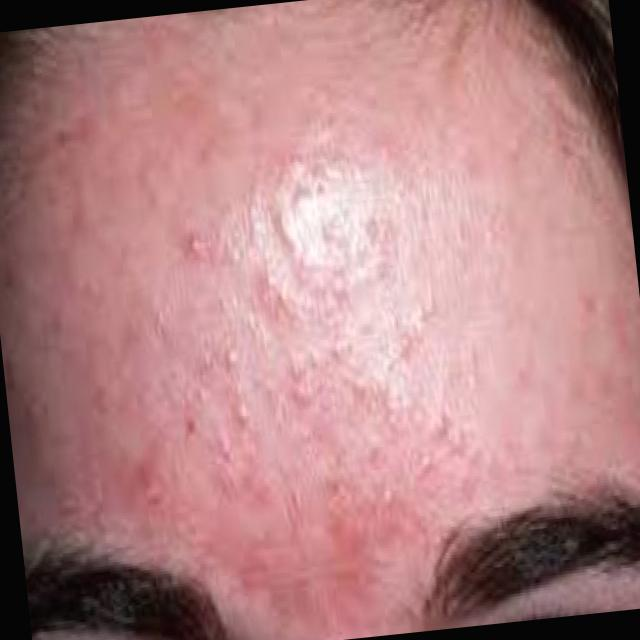fungal: (165, 182, 498, 535)
